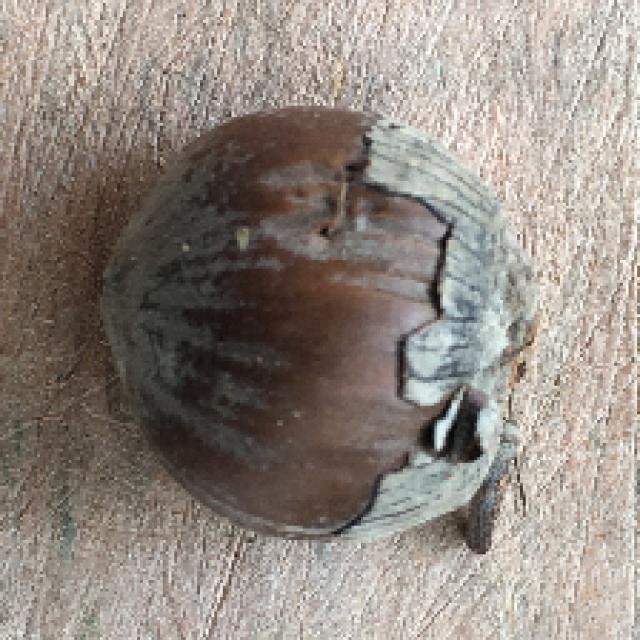damagedHazelnut: (87, 71, 555, 567)
